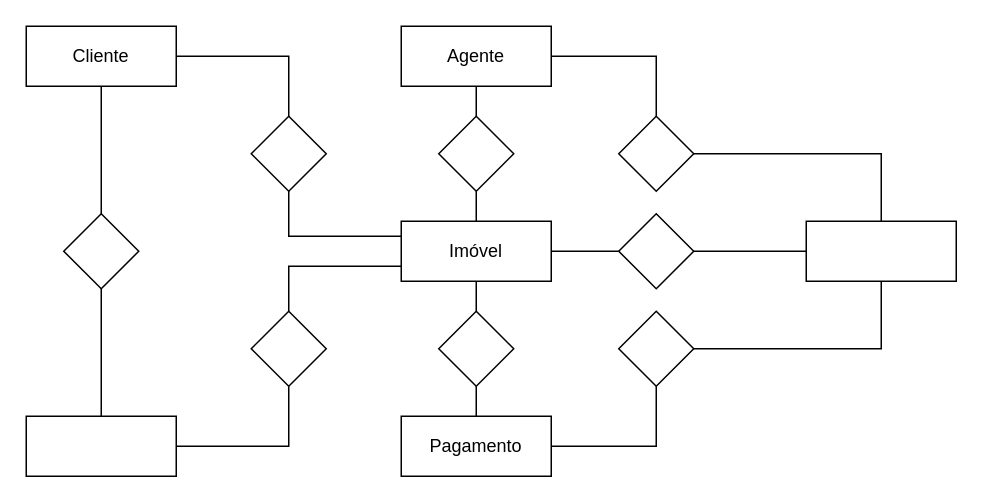
The diagram is 983 pixels wide and 503 high, and some of its shapes have lost their labels. Here are the shapes that lost their labels. From the top down, the centre of each, then its label:
[880,250]: Contrato
[100,445]: Proposta
